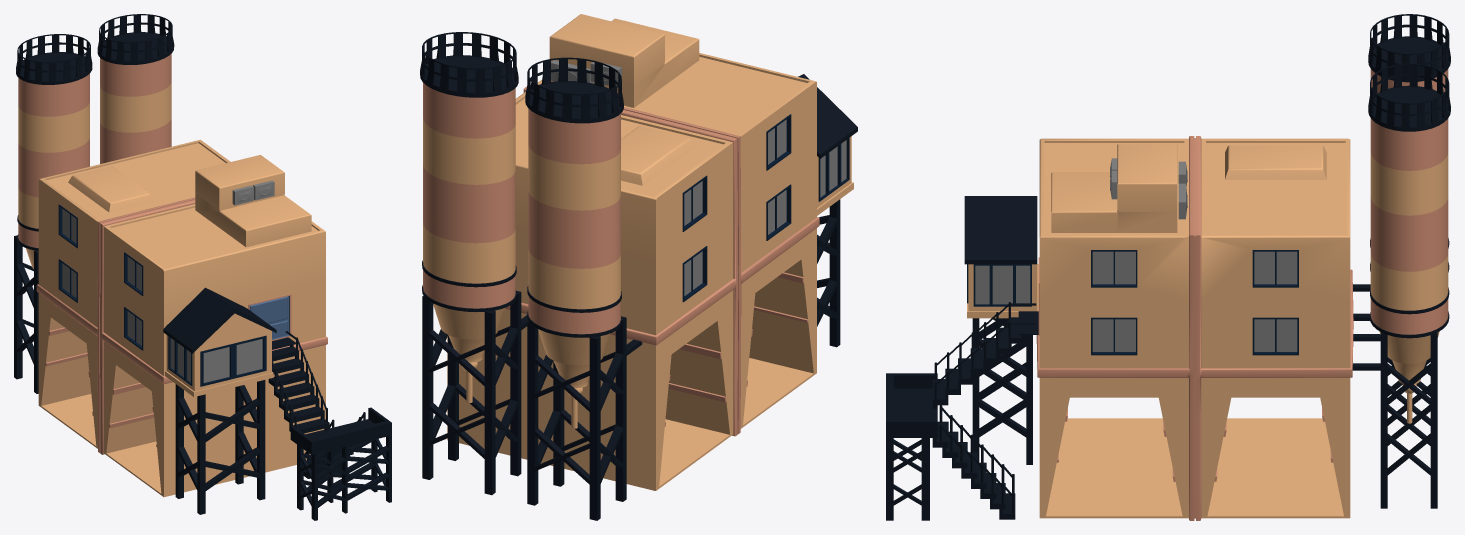
File: industrial-buildings-building-B.fbx
3 renders of one model, left to right at view 1: azimuth 30°, elevation 25°; view 2: azimuth 150°, elevation 25°; view 3: azimuth 270°, elevation 25°, orthographic. The views are drawn at different scales.
Visible parts, largest first — view 1: industrial-buildings-building-B; view 2: industrial-buildings-building-B; view 3: industrial-buildings-building-B.
Part boxes in pixels (x1,y1,x2,y2): industrial-buildings-building-B: (14,14,391,520); industrial-buildings-building-B: (420,14,857,520); industrial-buildings-building-B: (886,14,1450,520).
Bounding box in the file's own units: 10.06 × 19.08 × 23.67.
